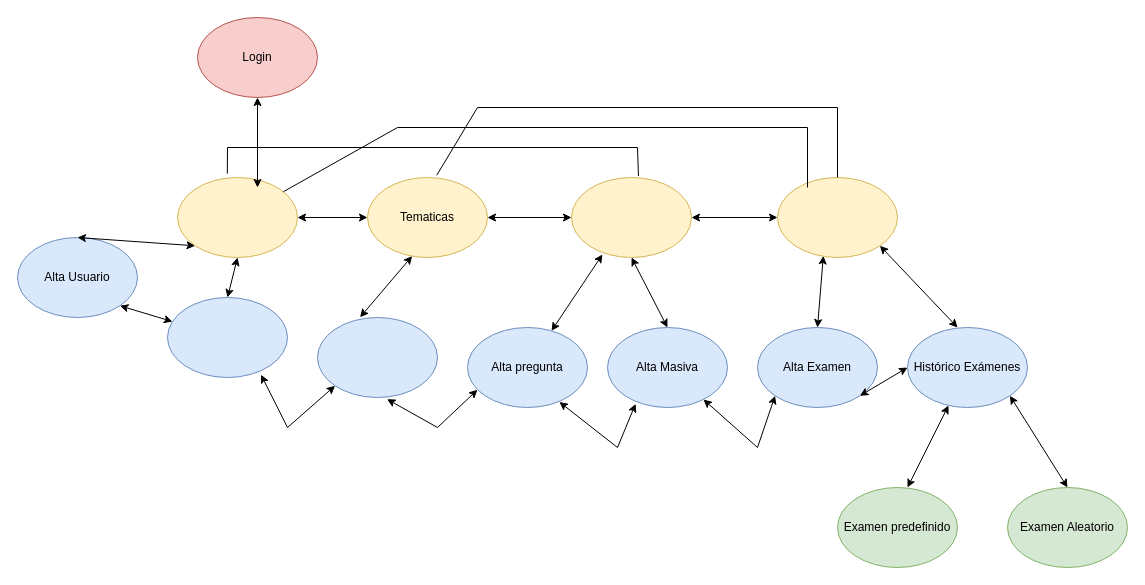
The diagram is 1145 pixels wide and 585 high, and some of its shapes have lost their labels. Here are the shapes that lost their labels. From the top down, the centre of each, then its label:
the point at 237,217: Usuarios
the point at 631,217: Preguntas
the point at 837,217: Examenes
the point at 227,337: Alta Masiva Usuario
the point at 377,357: Alta Tematica
